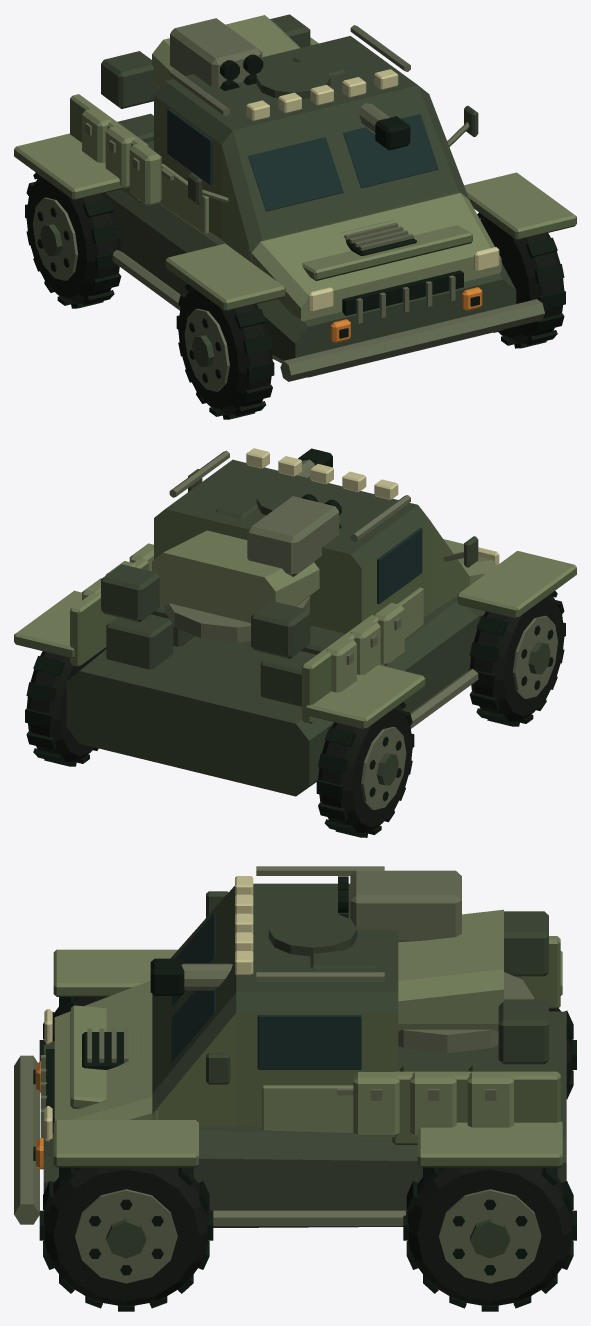
The model's file is raider_armored.glb.
3 renders of one model, top to bottom at view 1: azimuth 30°, elevation 25°; view 2: azimuth 150°, elevation 25°; view 3: azimuth 270°, elevation 25°, orthographic. The views are drawn at different scales.
Visible parts, largest first — view 1: Body, Wheel_-1.32_-1.25, Wheel_-1.32_1.13, Wheel_1.32_-1.25, WeaponPitch; view 2: Body, Wheel_-1.32_1.13, Wheel_-1.32_-1.25, Wheel_1.32_1.13, WeaponPitch; view 3: Body, Wheel_1.32_-1.25, Wheel_1.32_1.13, WeaponPitch, Wheel_-1.32_1.13, Wheel_-1.32_-1.25.
Part boxes in pixels (x1,y1,x2,y2): Body: (14,14,576,381); Wheel_-1.32_-1.25: (176,283,274,419); Wheel_-1.32_1.13: (25,172,122,308); Wheel_1.32_-1.25: (477,212,565,348); WeaponPitch: (293,51,410,150); Body: (14,448,576,796); Wheel_-1.32_1.13: (316,702,414,837); Wheel_-1.32_-1.25: (468,591,565,726); Wheel_1.32_1.13: (25,647,106,766); WeaponPitch: (215,448,332,518); Body: (14,866,566,1227); Wheel_1.32_-1.25: (39,1167,213,1311); Wheel_1.32_1.13: (403,1167,576,1311); WeaponPitch: (150,950,376,995); Wheel_-1.32_1.13: (549,1008,576,1099); Wheel_-1.32_-1.25: (39,997,106,1061).
Bounding box in the file's own units: 7.04 × 4.98 × 8.1.
Materials: 1 (1 with a texture image).
